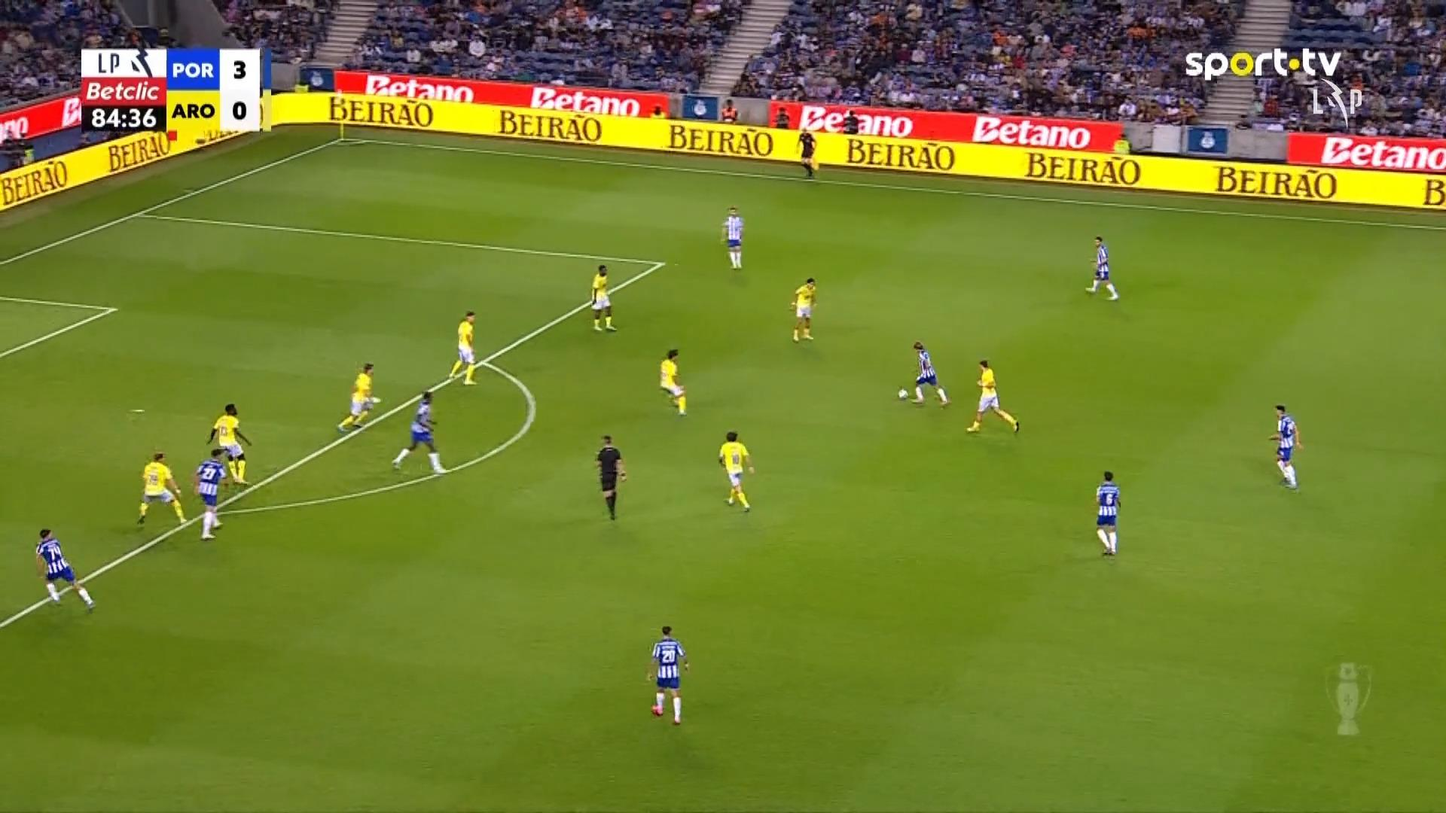ball: (897, 388, 908, 400), (651, 705, 663, 716)
player: (34, 527, 96, 613), (390, 389, 448, 474), (645, 625, 690, 725), (966, 358, 1020, 435), (205, 402, 252, 485), (136, 450, 186, 525), (193, 446, 230, 540), (336, 361, 379, 433), (717, 430, 754, 512), (1268, 403, 1302, 489), (909, 341, 949, 406), (447, 310, 478, 385), (1094, 470, 1121, 556), (1084, 235, 1119, 300), (658, 348, 687, 416), (589, 263, 616, 331), (790, 276, 816, 343), (721, 206, 744, 269)
referee: (595, 434, 627, 519), (797, 127, 818, 178)
